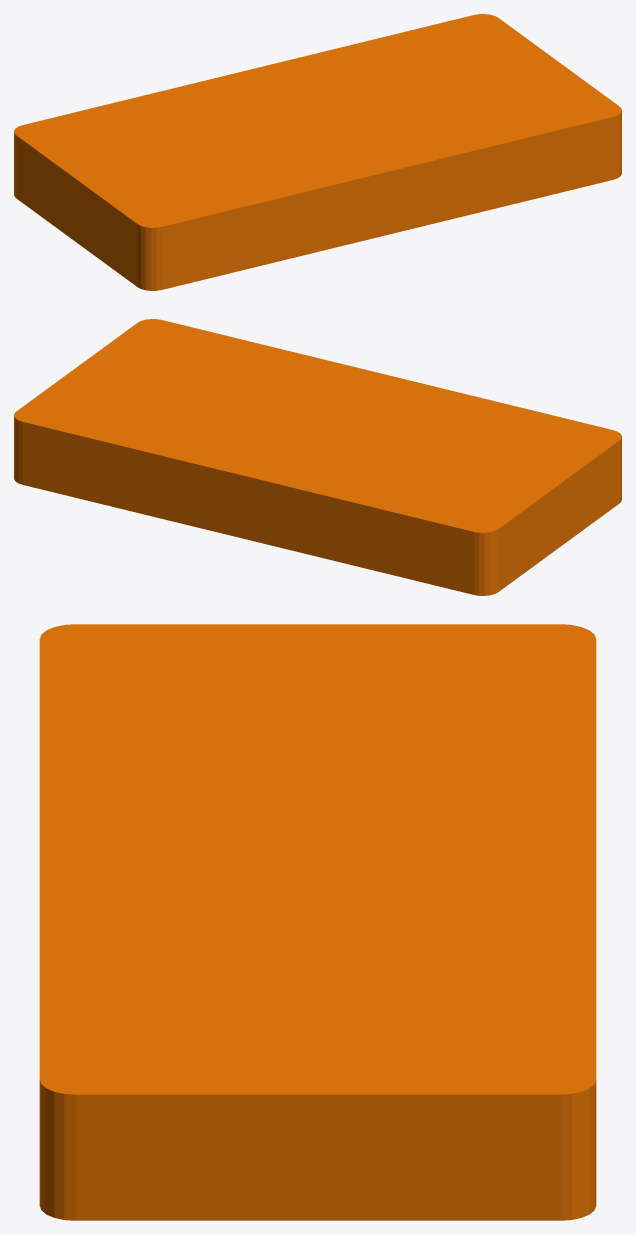
File: Platform.fbx
3 views of the same model, one above another, from view 1: azimuth 30°, elevation 25°; view 2: azimuth 150°, elevation 25°; view 3: azimuth 270°, elevation 25° (orthographic). The views are drawn at different scales.
Visible parts, largest first — view 1: Cubo; view 2: Cubo; view 3: Cubo.
Part boxes in pixels (x1,y1,x2,y2): Cubo: (14,14,621,290); Cubo: (14,319,621,595); Cubo: (39,624,596,1220).
Bounding box in the file's own units: 800 × 100 × 400.
Materials: 1 (1 with a texture image).
